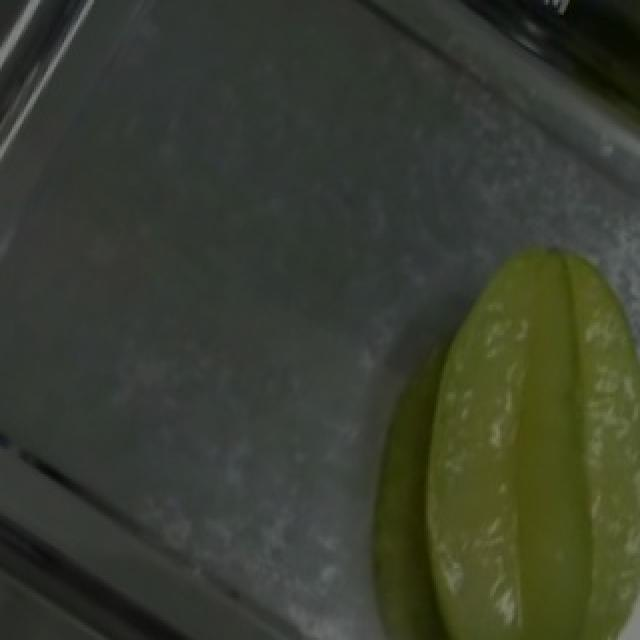fruit: (400, 204, 640, 616)
